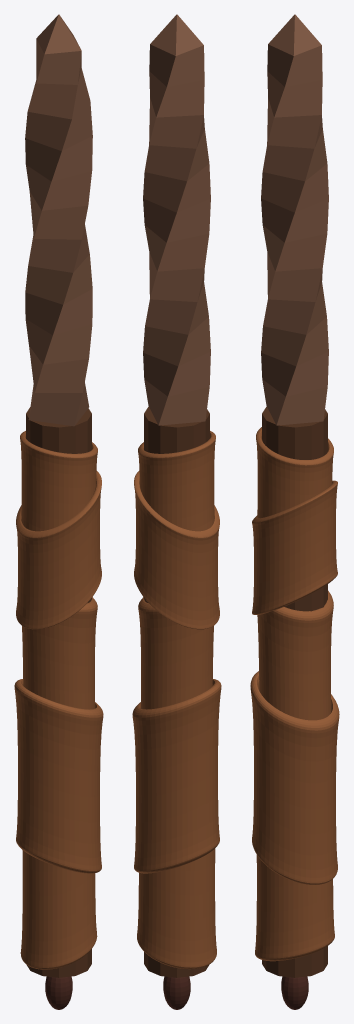
Rendered from Wand 356.glb.
3 renders of one model, left to right at view 1: azimuth 30°, elevation 25°; view 2: azimuth 150°, elevation 25°; view 3: azimuth 330°, elevation 25°, orthographic.
Visible parts, largest first — view 1: GeneratedWand; view 2: GeneratedWand; view 3: GeneratedWand.
Boxes of the visible parts, x1=… form: GeneratedWand: x1=14, y1=14, x2=103, y2=1009; GeneratedWand: x1=132, y1=14, x2=221, y2=1009; GeneratedWand: x1=250, y1=14, x2=339, y2=1009.
Bounding box in the file's own units: 0.0408 × 0.5035 × 0.0408.
